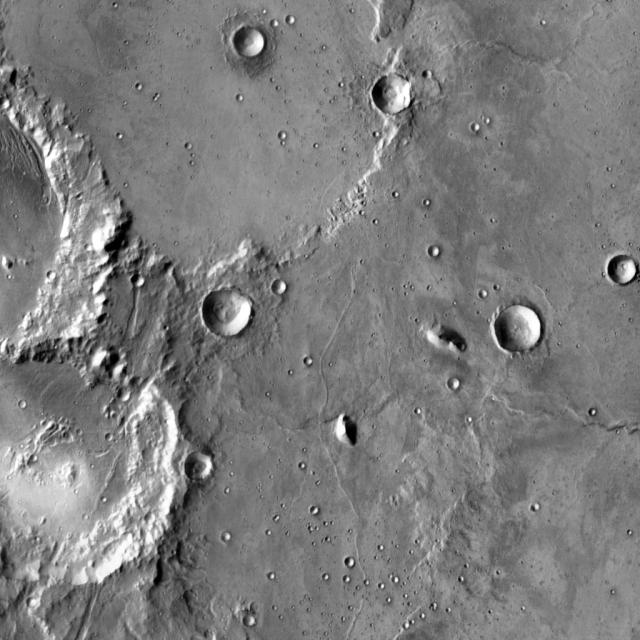crater: (0, 0, 395, 279), (193, 415, 458, 640), (0, 346, 182, 594), (204, 291, 255, 341), (497, 308, 544, 354), (375, 77, 416, 117), (235, 28, 266, 59), (183, 454, 214, 485), (608, 258, 636, 287), (118, 390, 134, 406), (145, 448, 161, 464), (271, 280, 286, 295), (0, 102, 13, 115), (429, 247, 442, 259), (245, 618, 258, 630), (134, 278, 146, 290), (146, 514, 158, 526), (448, 380, 459, 391), (250, 602, 261, 613), (286, 15, 296, 26), (222, 533, 232, 543), (310, 503, 320, 513), (28, 599, 38, 609), (49, 272, 59, 282), (279, 132, 288, 142), (426, 72, 435, 82), (345, 557, 354, 567), (533, 504, 543, 513), (304, 358, 313, 367), (479, 291, 488, 300), (473, 124, 482, 132), (106, 435, 114, 443), (30, 454, 38, 461), (268, 573, 275, 581), (297, 460, 304, 468), (342, 575, 350, 582), (584, 403, 592, 410), (87, 245, 94, 253), (21, 402, 28, 410), (184, 143, 192, 150), (271, 19, 278, 27), (424, 200, 432, 207), (395, 578, 402, 585), (137, 84, 144, 91), (235, 96, 242, 103), (414, 408, 421, 414), (480, 112, 486, 119), (321, 575, 327, 581), (458, 576, 464, 582), (404, 624, 409, 630), (434, 602, 439, 608)
